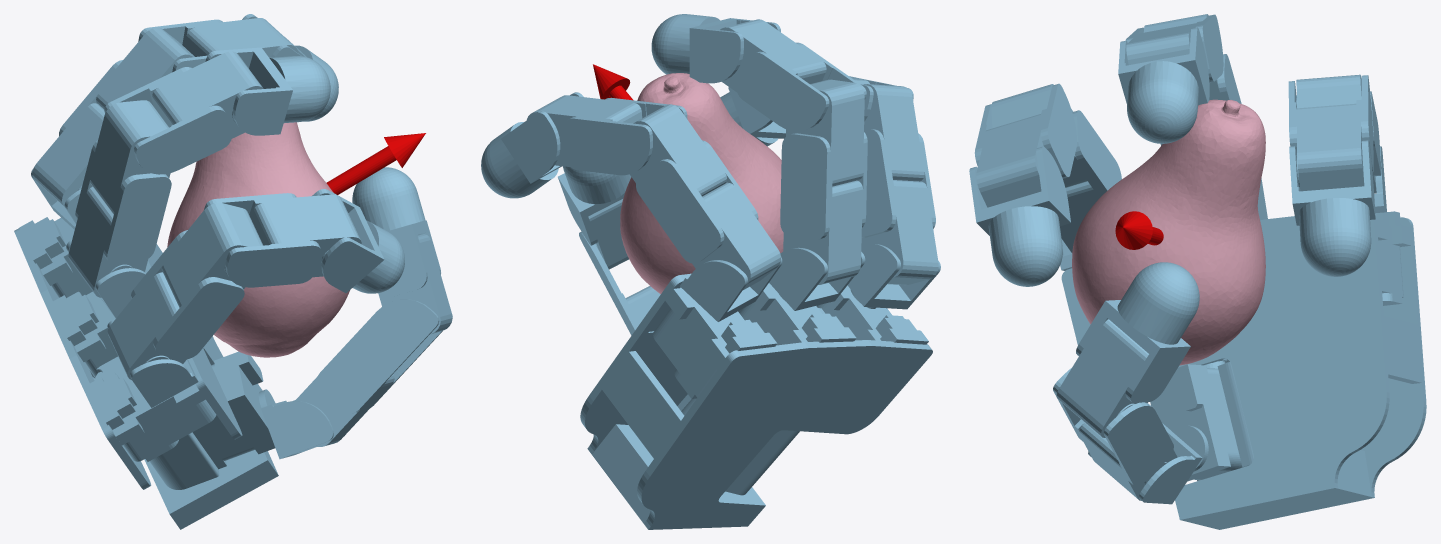
The picture shows the model from 3 angles, left to right: view 1: azimuth 30°, elevation 25°; view 2: azimuth 150°, elevation 25°; view 3: azimuth 270°, elevation 25°; orthographic projection. The views are drawn at different scales.
Parts seen in each view (by area): view 1: world, pear.stl; view 2: world, pear.stl; view 3: world, pear.stl.
Part boxes in pixels (x1,y1,x2,y2): world: (14, 14, 452, 529); pear.stl: (167, 122, 349, 357); world: (481, 14, 940, 529); pear.stl: (620, 73, 783, 294); world: (969, 14, 1426, 529); pear.stl: (1072, 99, 1265, 365).
Bounding box in the file's own units: 0.1469 × 0.1921 × 0.1549.
